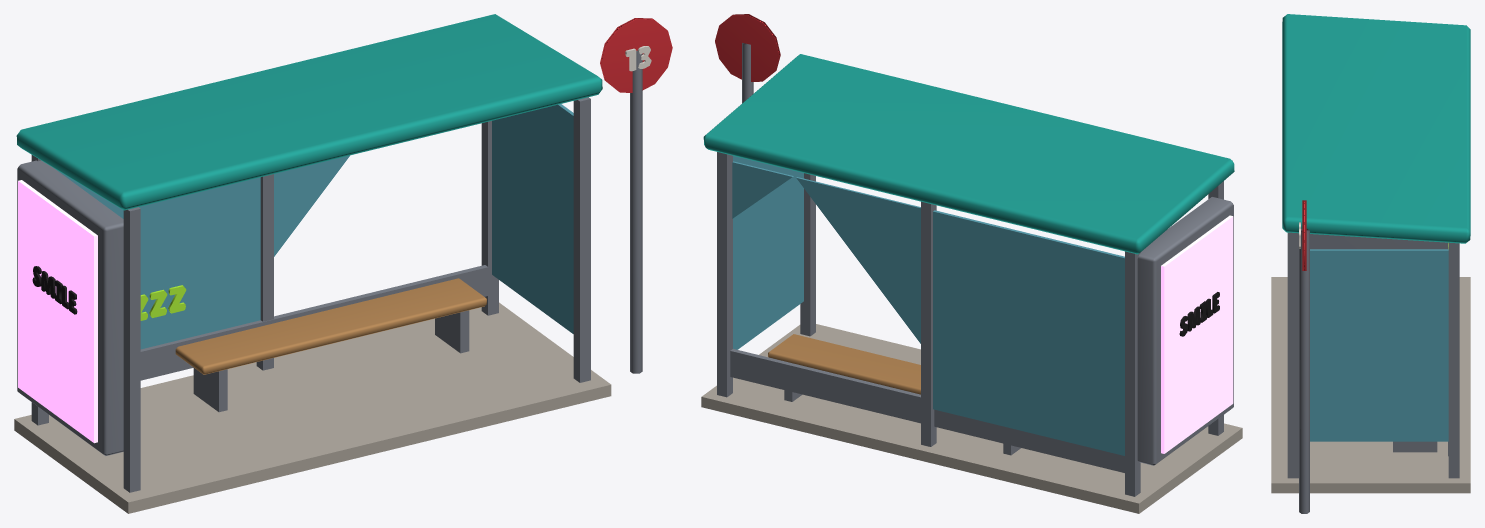
Rendered from city_bus_stop.glb.
3 renders of one model, left to right at view 1: azimuth 30°, elevation 25°; view 2: azimuth 150°, elevation 25°; view 3: azimuth 270°, elevation 25°, orthographic. The views are drawn at different scales.
Parts seen in each view (by area): view 1: BusStop; view 2: BusStop; view 3: BusStop.
Part boxes in pixels (x1,y1,x2,y2): BusStop: (14,14,672,513); BusStop: (701,14,1242,513); BusStop: (1271,14,1470,513).
Bounding box in the file's own units: 5.25 × 3.07 × 1.8.
